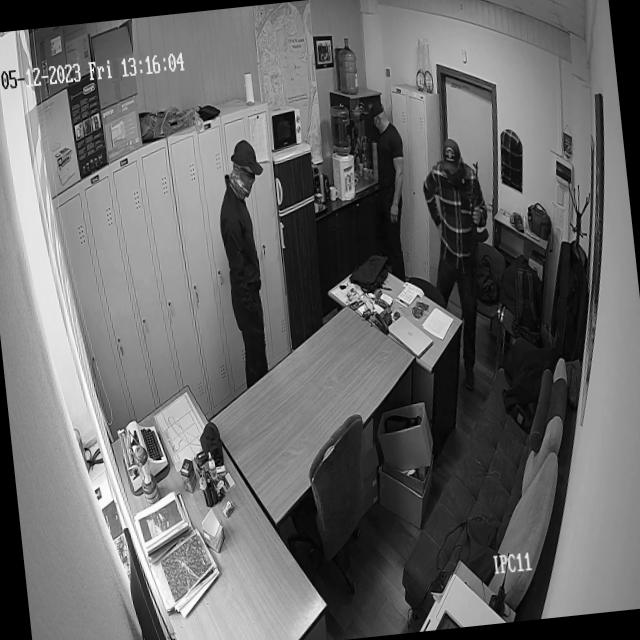gun: (458, 160, 494, 296)
person: (216, 140, 284, 394), (363, 93, 414, 260)
person with a gun: (418, 140, 506, 397)
